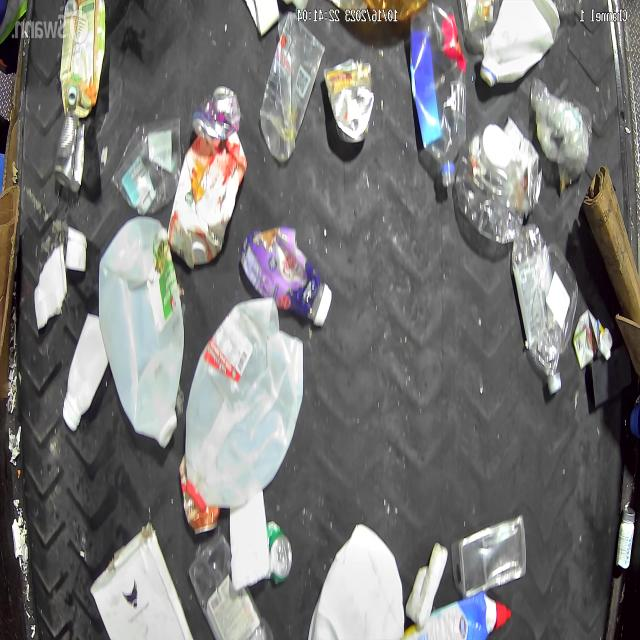can: (324, 55, 374, 145), (179, 452, 220, 534), (192, 86, 240, 143), (52, 112, 84, 193), (266, 519, 293, 585)
milk_jug: (185, 298, 304, 508), (97, 214, 183, 449), (304, 524, 406, 640), (476, 0, 558, 87)
non_white_jug: (166, 132, 246, 269), (397, 588, 507, 639), (59, 0, 106, 119)
plastic_bottle: (409, 2, 467, 188), (260, 11, 324, 162), (512, 226, 569, 392), (240, 224, 332, 326), (456, 122, 529, 242), (530, 76, 592, 182)
